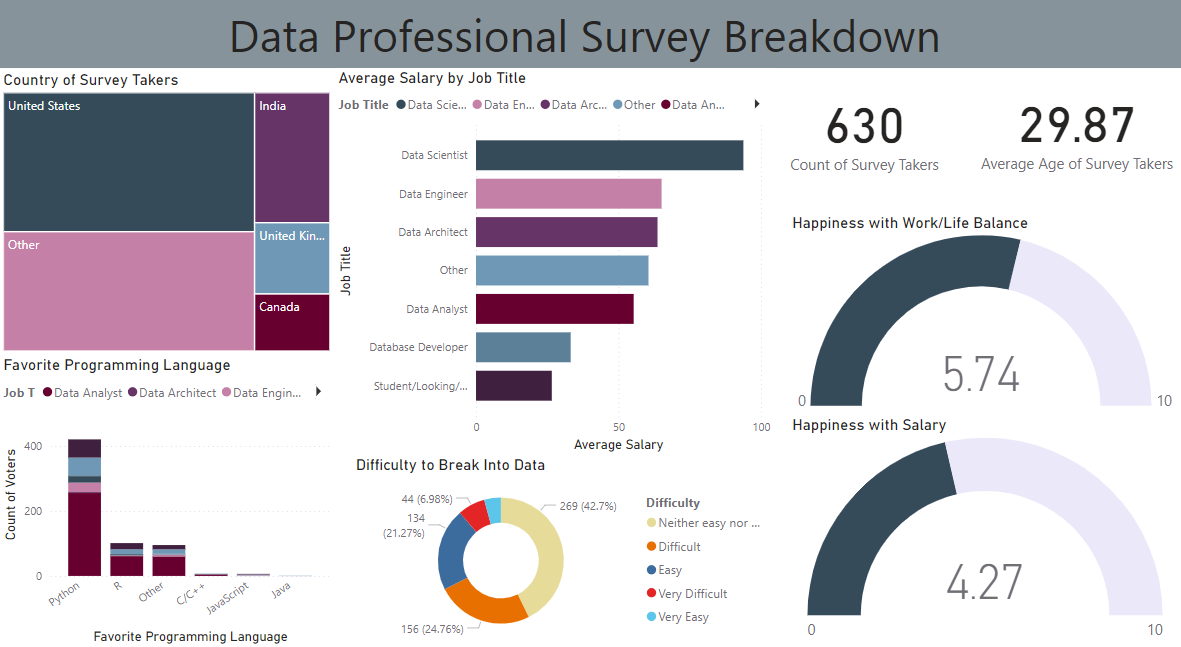

Layout of this report page (visuals, bound fields, positions):
{"tool":"powerbi","page":{"name":"Page 1","canvas":[1280,720],"ordinal":0},"visuals":[{"type":"textbox","box":[10,0,280,280],"z":0},{"type":"textbox","box":[0,17.1,1280,74.3],"z":1000},{"type":"card","fields":{"Values":["Count(Data Professional Survey.Unique ID)"]},"box":[821.4,95.7,228.6,124.3],"z":2000},{"type":"card","fields":{"Values":["Avg(Data Professional Survey.Q10 - Current Age)"]},"box":[1051.4,94.3,228.6,124.3],"z":3000},{"type":"barChart","title":"Average Salary by Job Title","fields":{"Category":["Data Professional Survey.Q1 - Which Title Best Fits your Current Role?.1"],"Y":["Avg(Data Professional Survey.Average Salary)"],"Series":["Data Professional Survey.Q1 - Which Title Best Fits your Current Role?.1"]},"box":[362.9,91.4,477.1,420],"z":4000},{"type":"columnChart","title":"Favorite Programming Language","fields":{"Category":["Data Professional Survey.Q5 - Favorite Programming Language.1"],"Y":["CountNonNull(Data Professional Survey.Unique ID)"],"Series":["Data Professional Survey.Q1 - Which Title Best Fits your Current Role?.1"]},"box":[0,402.9,362.9,317.1],"z":5000},{"type":"treemap","title":"Country of Survey Takers","fields":{"Group":["Data Professional Survey.Q11 - Which Country do you live in?.1"],"Values":["CountNonNull(Data Professional Survey.Q11 - Which Country do you live in?.1)"]},"box":[0,94.3,362.9,308.6],"z":6000},{"type":"gauge","title":"Happiness with Work/Life Balance","fields":{"Y":["Avg(Data Professional Survey.Q6 - How Happy are you in your Current Position with the following? (Work/Life Balance))"],"MinValue":["Min(Data Professional Survey.Q6 - How Happy are you in your Current Position with the following? (Work/Life Balance))1"],"MaxValue":["Max(Data Professional Survey.Q6 - How Happy are you in your Current Position with the following? (Work/Life Balance))2"]},"box":[852.9,248.6,427.1,218.6],"z":7000},{"type":"gauge","title":"Happiness with Salary","fields":{"Y":["Avg(Data Professional Survey.Q6 - How Happy are you in your Current Position with the following? (Salary))"],"MinValue":["Min(Data Professional Survey.Q6 - How Happy are you in your Current Position with the following? (Salary))"],"MaxValue":["Max(Data Professional Survey.Q6 - How Happy are you in your Current Position with the following? (Salary))"]},"box":[852.9,467.1,427.1,252.9],"z":8000},{"type":"donutChart","title":"Difficulty to Break Into Data","fields":{"Category":["Data Professional Survey.Q7 - How difficult was it for you to break into Data?"],"Y":["CountNonNull(Data Professional Survey.Q7 - How difficult was it for you to break into Data?)"]},"box":[381.4,511.4,458.6,208.6],"z":9000}]}

Visuals, with their boxes in screenshot pixels (x1, y1, x2, y2), scaled from the page's 1280x720 canvas onto the 1181x647 screenshot:
textbox: bbox=(9, 0, 268, 252)
textbox: bbox=(0, 15, 1180, 82)
card - Count(Data Professional Survey.Unique ID): bbox=(758, 86, 969, 198)
card - Avg(Data Professional Survey.Q10 - Current Age): bbox=(970, 85, 1180, 196)
"Average Salary by Job Title" barChart: bbox=(335, 82, 775, 460)
"Favorite Programming Language" columnChart: bbox=(0, 362, 335, 646)
"Country of Survey Takers" treemap: bbox=(0, 85, 335, 362)
"Happiness with Work/Life Balance" gauge: bbox=(787, 223, 1180, 420)
"Happiness with Salary" gauge: bbox=(787, 420, 1180, 646)
"Difficulty to Break Into Data" donutChart: bbox=(352, 460, 775, 646)
